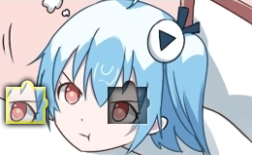gap: (108, 81, 150, 124)
